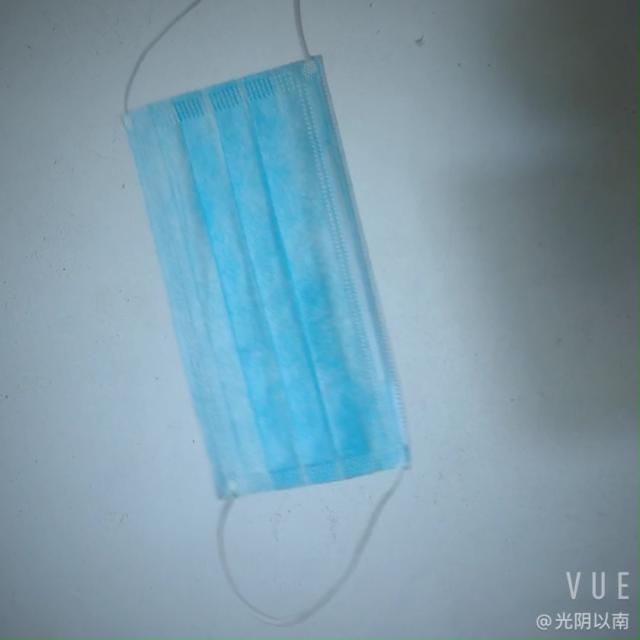face mask: (127, 41, 422, 530)
